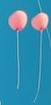Balloon: (8, 10, 27, 30), (30, 13, 49, 30)
